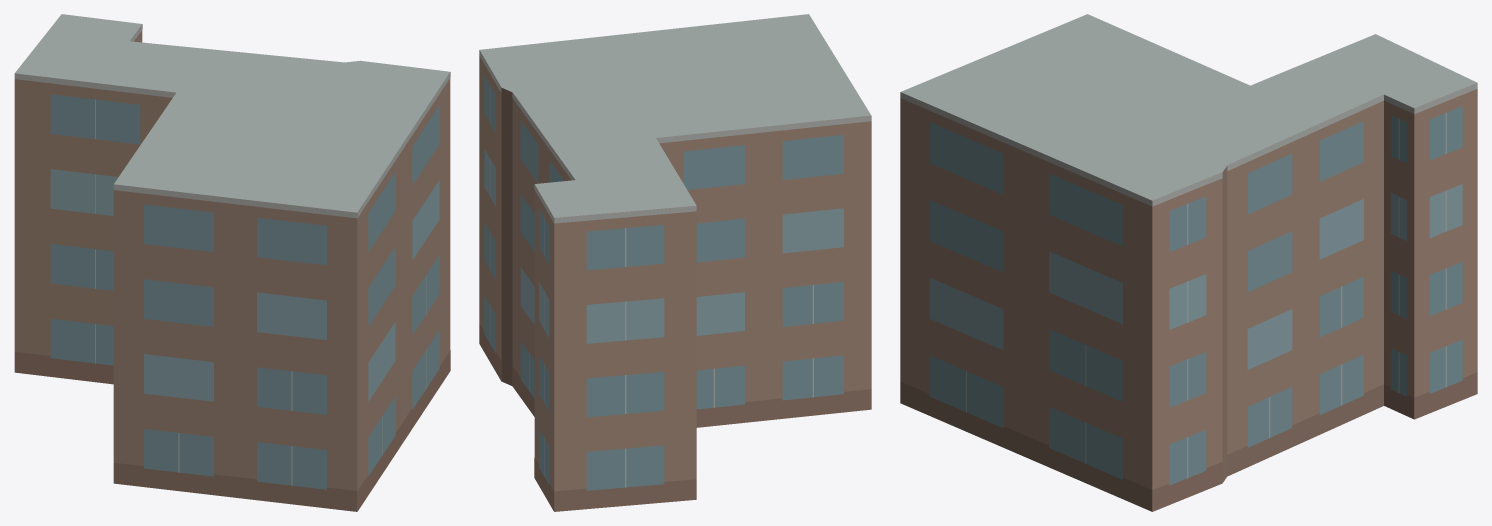
File: survey-upis-32652034.glb
3 views of the same model, side by side, from view 1: azimuth 30°, elevation 25°; view 2: azimuth 150°, elevation 25°; view 3: azimuth 270°, elevation 25° (orthographic). The views are drawn at different scales.
Visible parts, largest first — view 1: survey-upis-32652034.tmp; view 2: survey-upis-32652034.tmp; view 3: survey-upis-32652034.tmp.
Part boxes in pixels (x1,y1,x2,y2): survey-upis-32652034.tmp: (14, 14, 450, 511); survey-upis-32652034.tmp: (479, 14, 871, 511); survey-upis-32652034.tmp: (900, 14, 1477, 511).
Bounding box in the file's own units: 16.41 × 12.75 × 21.44.
